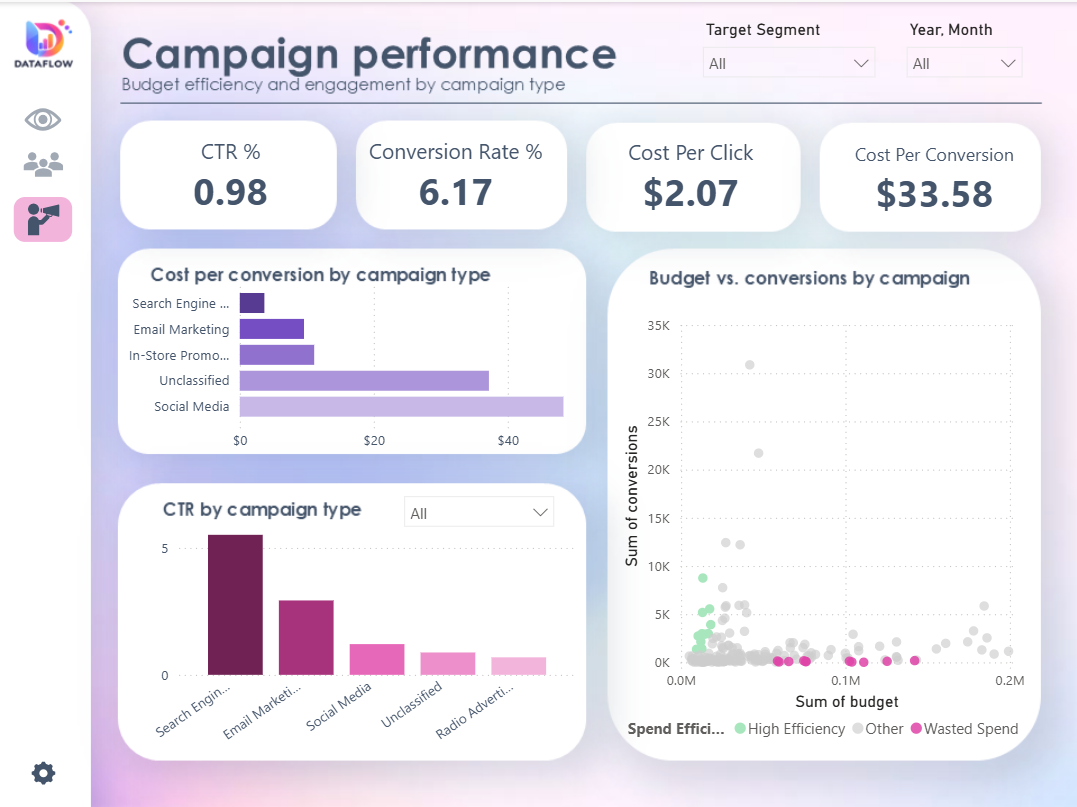

What the dashboard file says about the page in this screenshot:
{"tool":"powerbi","page":{"name":"Campaign Performance","canvas":[960,720],"ordinal":2},"visuals":[{"type":"barChart","fields":{"Y":["_Measures.Cost Per Conversion"],"Category":["Campaigns_Clean.campaign_type"]},"box":[96.2,237.5,421.2,171.2],"z":0},{"type":"scatterChart","fields":{"X":["Sum(Campaigns_Clean.budget)"],"Y":["Sum(Campaigns_Clean.conversions)"],"Category":["Campaigns_Clean.campaign_id"],"Series":["Campaigns_Clean.Spend Efficiency Segment"]},"box":[550,273.3,371.7,391.7],"z":1000},{"type":"clusteredColumnChart","fields":{"Category":["Campaigns_Clean.campaign_type"],"Y":["_Measures.CTR %"]},"box":[110,450,408.3,221.7],"z":2000},{"type":"slicer","fields":{"Values":["Campaigns_Clean.campaign_type"]},"box":[350,430,154.3,40],"z":3000},{"type":"slicer","fields":{"Values":["Campaigns_Clean.end_date.Variation.Date Hierarchy.Year","Campaigns_Clean.end_date.Variation.Date Hierarchy.Month"]},"box":[797.1,11.4,123.3,70],"z":4000},{"type":"image","box":[12.2,84.3,52.2,40],"z":5000},{"type":"image","box":[12.2,124.3,52.2,40],"z":6000},{"type":"image","box":[12,173.5,52.2,40],"z":7000},{"type":"image","box":[16.7,672.2,44.4,28.9],"z":8000},{"type":"cardVisual","fields":{"Data":["_Measures.CTR %"]},"box":[107.5,100,195,108.3],"z":9000},{"type":"cardVisual","fields":{"Data":["_Measures.Conversion Rate %"]},"box":[308.2,100.7,195,108.3],"z":10000},{"type":"cardVisual","fields":{"Data":["_Measures.Cost Per Click"]},"box":[517.5,101.2,195,108.3],"z":12000},{"type":"cardVisual","fields":{"Data":["_Measures.Cost Per Conversion"]},"box":[735,103.8,195,108.3],"z":13000},{"type":"slicer","fields":{"Values":["Campaigns_Clean.target_segment"]},"box":[615.7,11.4,173.8,71.2],"z":14000}]}

Visuals, with their boxes on the page's 960x720 design canvas (x1, y1, x2, y2). These are canvas units, not pixel positions in the 1077x807 screenshot, which may show the page scaled, cropped or inside an application window:
barChart - _Measures.Cost Per Conversion x Campaigns_Clean.campaign_type: (96, 238, 517, 409)
scatterChart - Sum(Campaigns_Clean.budget) x Sum(Campaigns_Clean.conversions): (550, 273, 922, 665)
clusteredColumnChart - Campaigns_Clean.campaign_type x _Measures.CTR %: (110, 450, 518, 672)
slicer - Campaigns_Clean.campaign_type: (350, 430, 504, 470)
slicer - Campaigns_Clean.end_date.Variation.Date Hierarchy.Year x Campaigns_Clean.end_date.Variation.Date Hierarchy.Month: (797, 11, 920, 81)
image: (12, 84, 64, 124)
image: (12, 124, 64, 164)
image: (12, 174, 64, 214)
image: (17, 672, 61, 701)
cardVisual - _Measures.CTR %: (108, 100, 302, 208)
cardVisual - _Measures.Conversion Rate %: (308, 101, 503, 209)
cardVisual - _Measures.Cost Per Click: (518, 101, 712, 210)
cardVisual - _Measures.Cost Per Conversion: (735, 104, 930, 212)
slicer - Campaigns_Clean.target_segment: (616, 11, 790, 83)
